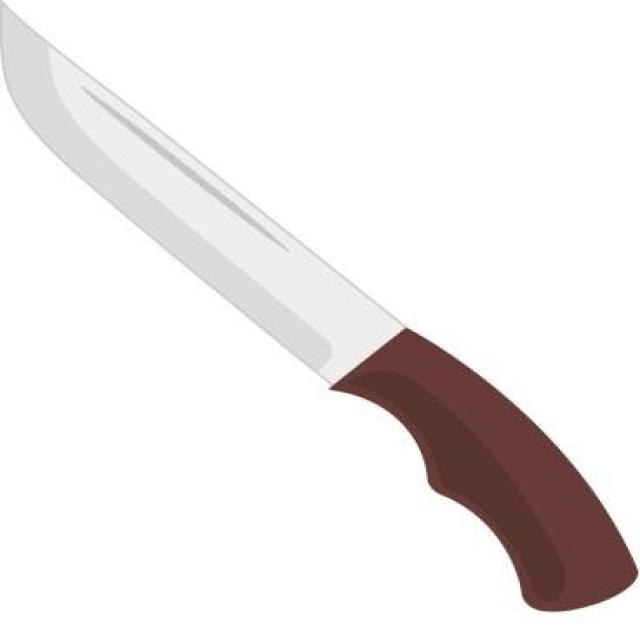knife: (1, 1, 640, 612)
